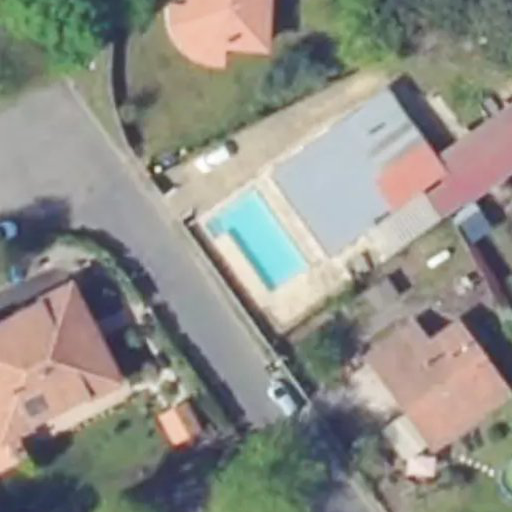pool: (209, 188, 313, 294)
